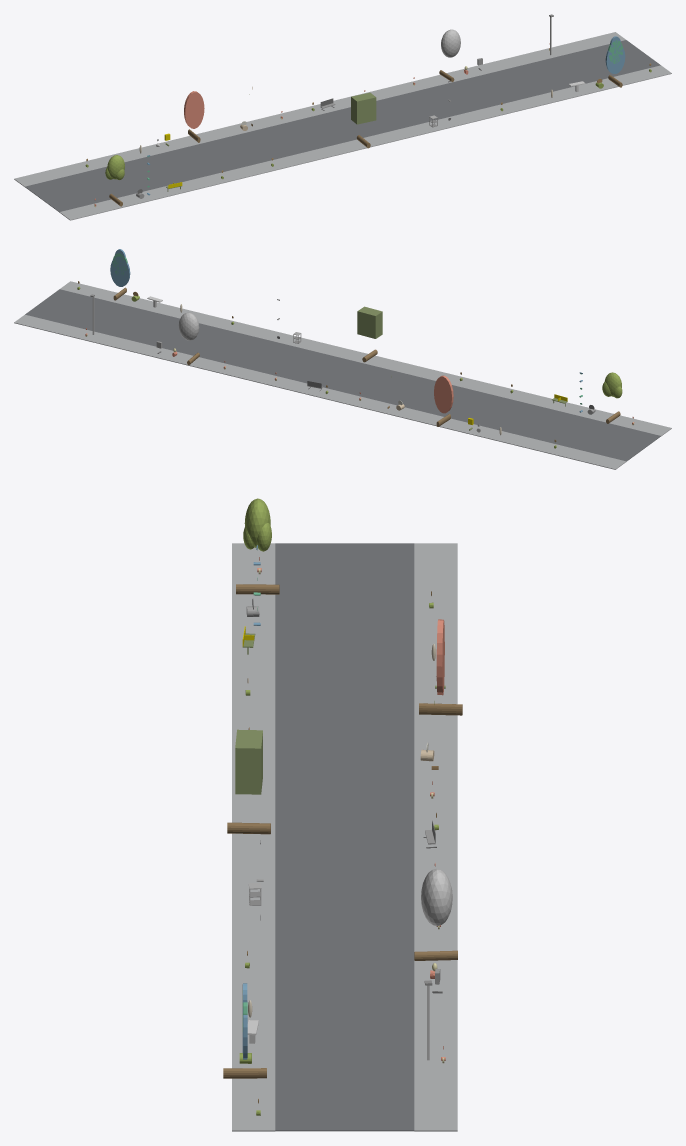
3 renders of one model, top to bottom at view 1: azimuth 30°, elevation 25°; view 2: azimuth 150°, elevation 25°; view 3: azimuth 270°, elevation 25°, orthographic. The views are drawn at different scales.
Visible parts, largest first — view 1: road_slab, sidewalk_left, sidewalk_right, inst_0014, inst_0013, inst_0016, inst_0015, inst_0012; view 2: road_slab, sidewalk_right, sidewalk_left, inst_0014, inst_0013, inst_0016, inst_0015, inst_0012; view 3: road_slab, sidewalk_right, sidewalk_left, inst_0014, inst_0015, inst_0012, inst_0013, inst_0016.
Part boxes in pixels (x1,y1,x2,y2): road_slab: (25,40,660,212); sidewalk_left: (59,65,671,220); sidewalk_right: (14,32,625,186); inst_0014: (351,92,376,148); inst_0013: (184,91,204,142); inst_0016: (605,36,625,87); inst_0015: (439,29,460,81); inst_0012: (105,155,124,206); road_slab: (25,289,660,461); sidewalk_right: (14,314,626,469); sidewalk_left: (60,281,671,436); inst_0014: (357,306,382,362); inst_0013: (434,375,453,426); inst_0016: (110,249,130,300); inst_0015: (178,312,199,365); inst_0012: (602,372,622,423); road_slab: (275,543,414,1131); sidewalk_right: (414,543,457,1131); sidewalk_left: (232,543,275,1131); inst_0014: (227,729,270,834); inst_0015: (414,868,457,960); inst_0012: (236,498,279,594); inst_0013: (419,619,462,715); inst_0016: (223,983,266,1078).
Bounding box in the file's own units: 80 × 6.08 × 13.78.
